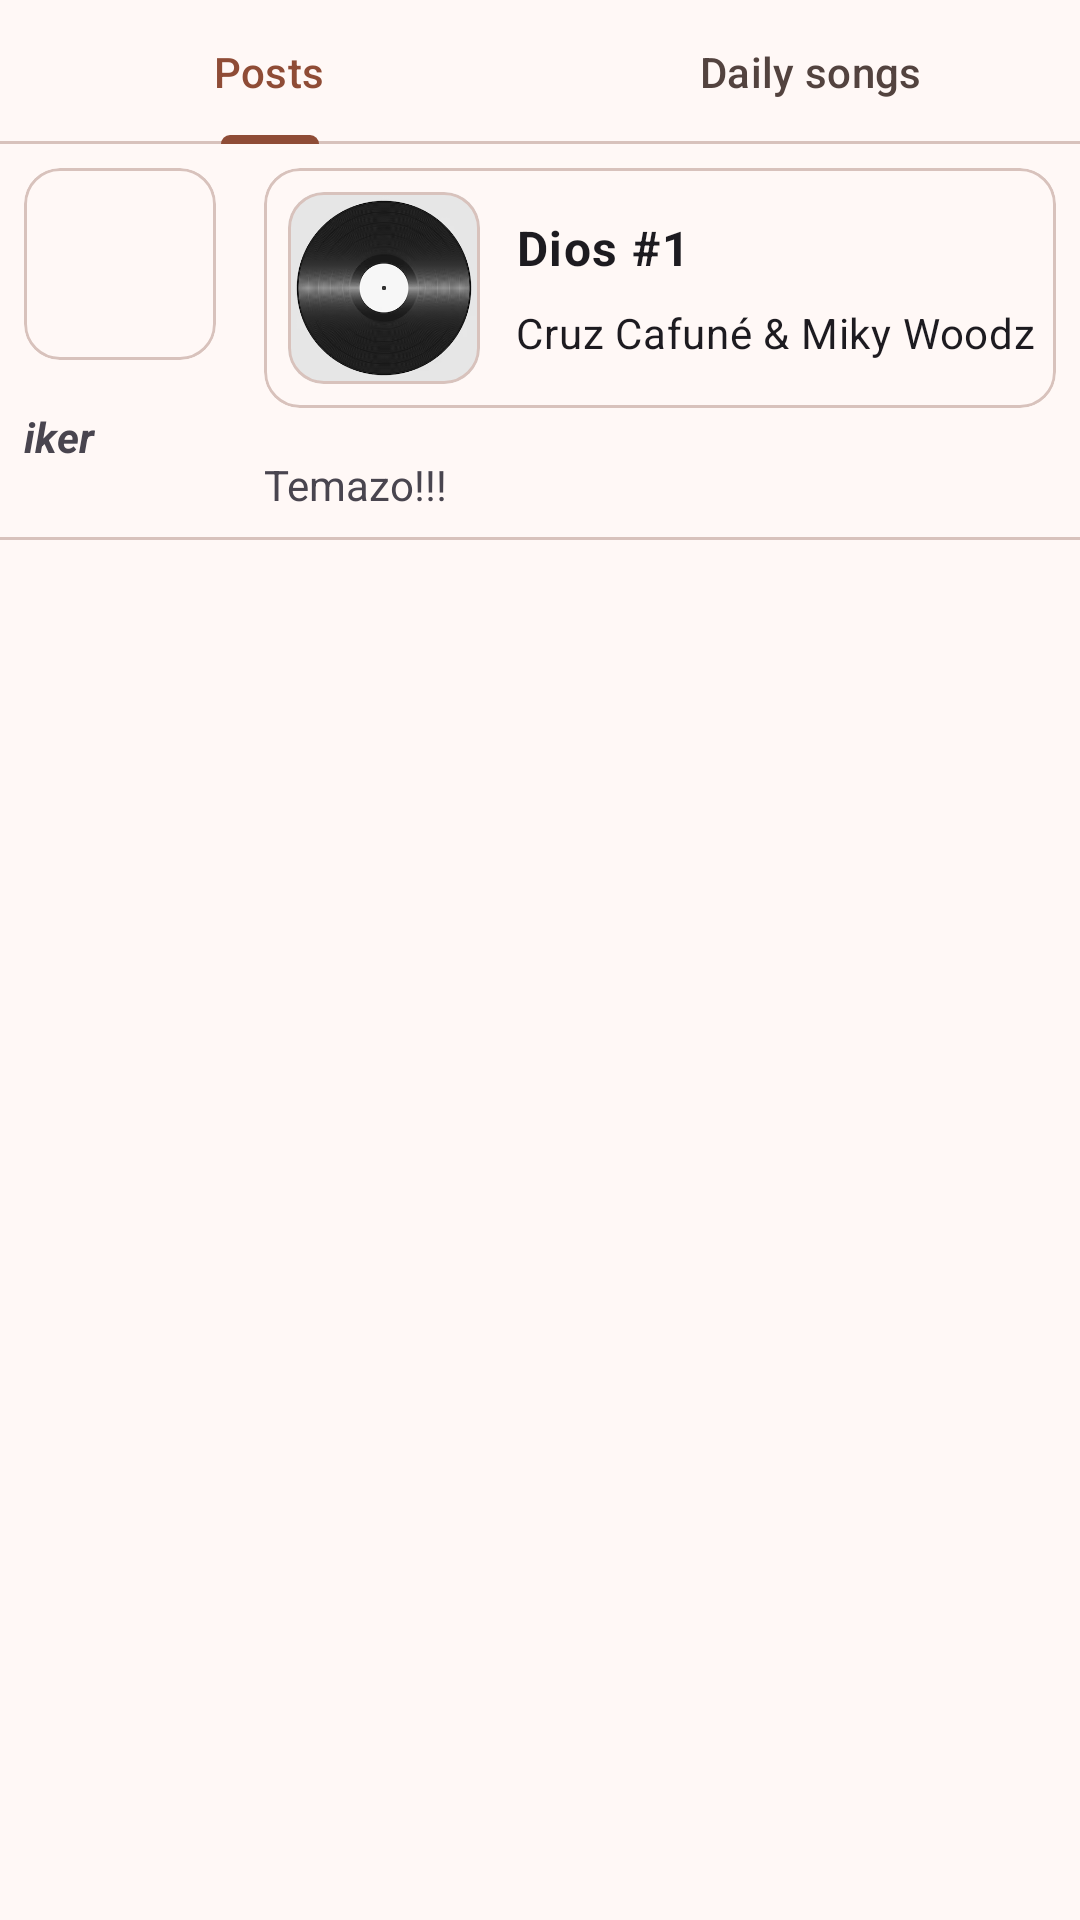

Icons on this 1080 × 1920 Android screen, each with its box as Rect(x1, y1, x2, y2):
album: Rect(288, 192, 480, 384)
